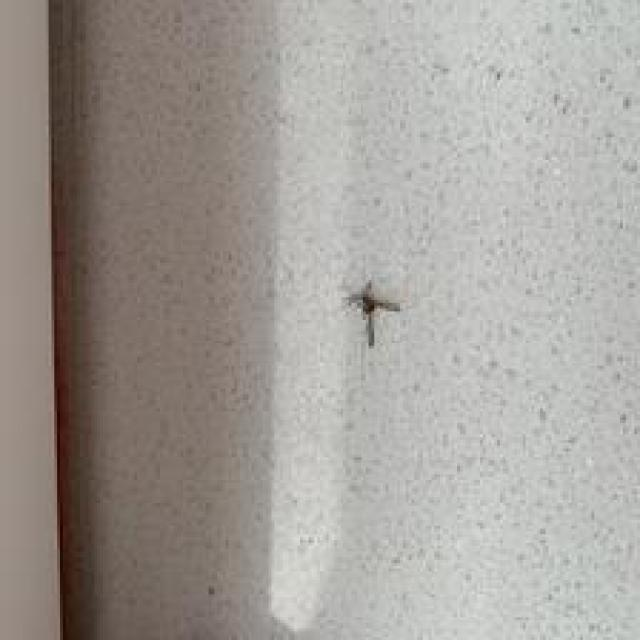Culex: (343, 279, 403, 347)
